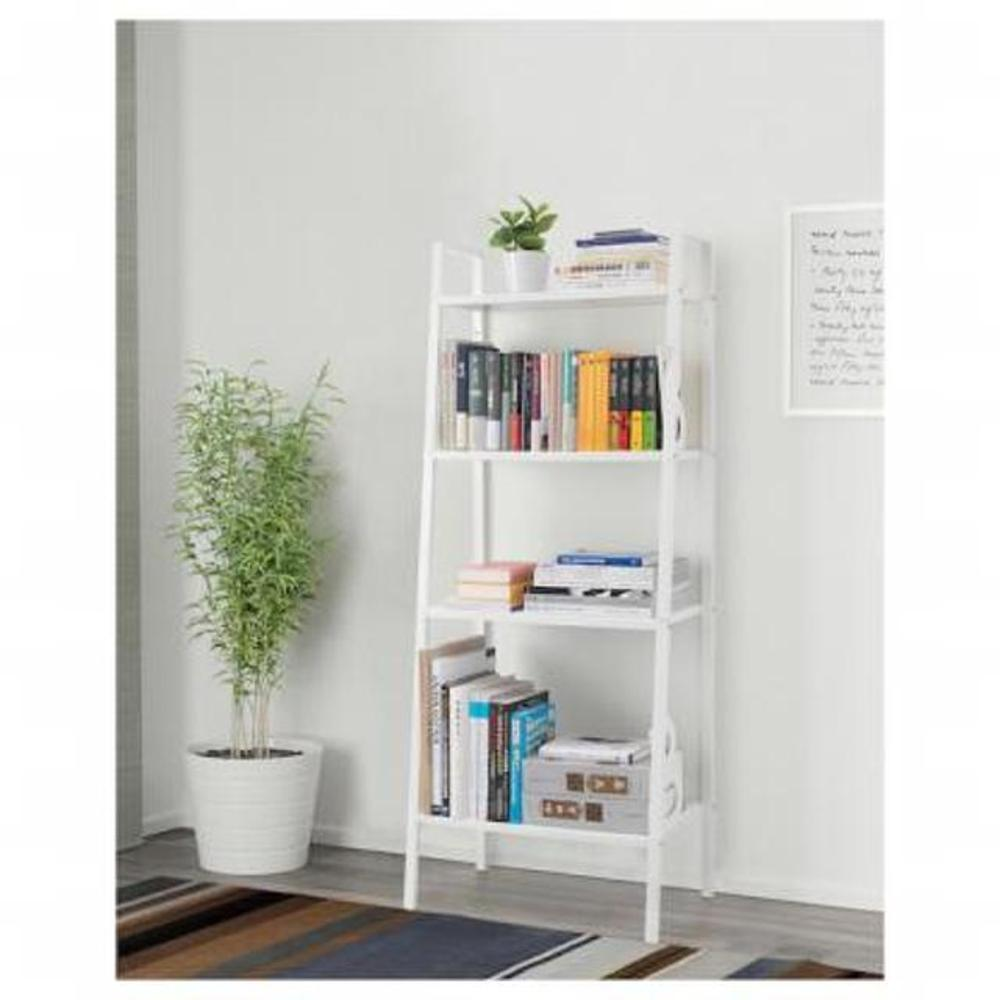lamp: (401, 237, 722, 944)
